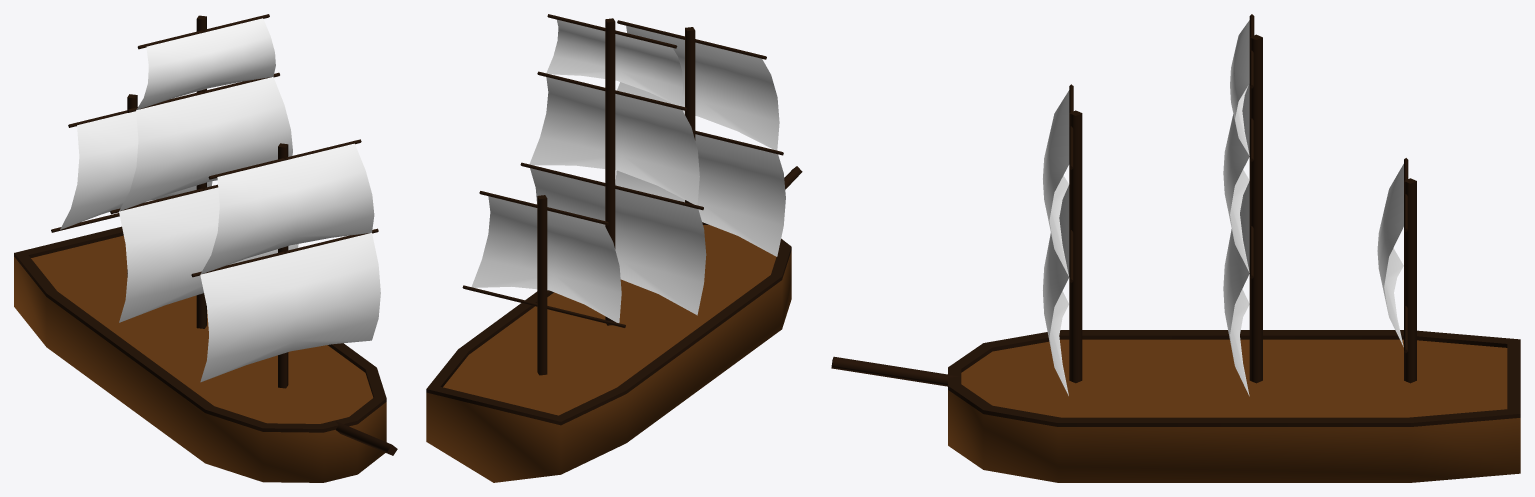
Rendered from frigate.fbx.
3 views of the same model, side by side, from view 1: azimuth 30°, elevation 25°; view 2: azimuth 150°, elevation 25°; view 3: azimuth 270°, elevation 25° (orthographic). The views are drawn at different scales.
Parts seen in each view (by area): view 1: hull, sailFront, sailMid, detail, sailRear; view 2: hull, sailMid, sailFront, detail, sailRear; view 3: hull, detail, sailMid, sailFront, sailRear.
Part boxes in pixels (x1=…): hull: x1=14, y1=235, x2=386, y2=482; sailFront: x1=200, y1=143, x2=380, y2=382; sailMid: x1=119, y1=18, x2=298, y2=322; detail: x1=14, y1=14, x2=397, y2=455; sailRear: x1=60, y1=111, x2=212, y2=229; hull: x1=426, y1=225, x2=791, y2=482; sailMid: x1=529, y1=19, x2=706, y2=315; sailFront: x1=615, y1=25, x2=785, y2=256; detail: x1=426, y1=14, x2=802, y2=425; sailRear: x1=471, y1=196, x2=621, y2=322; hull: x1=948, y1=339, x2=1520, y2=482; detail: x1=831, y1=14, x2=1520, y2=426; sailMid: x1=1223, y1=20, x2=1249, y2=396; sailFront: x1=1043, y1=90, x2=1069, y2=395; sailRear: x1=1377, y1=164, x2=1403, y2=346.
Bounding box in the file's own units: 2.7 × 5.35 × 7.83.
